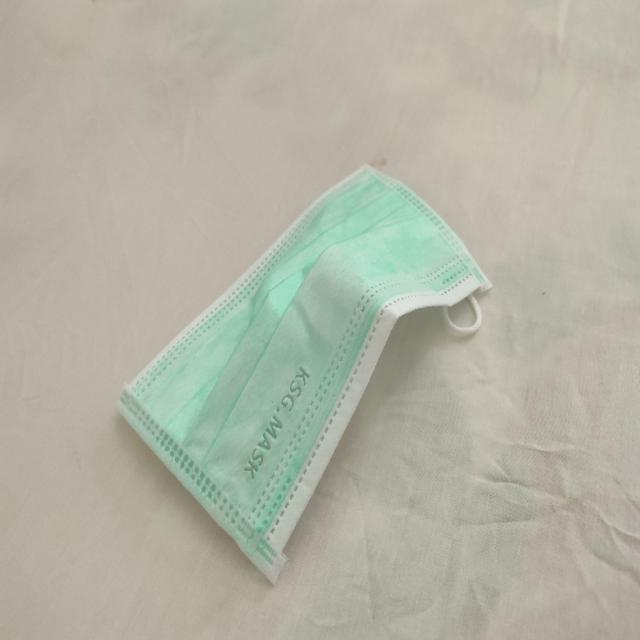non-organic waste: (109, 169, 489, 606)
